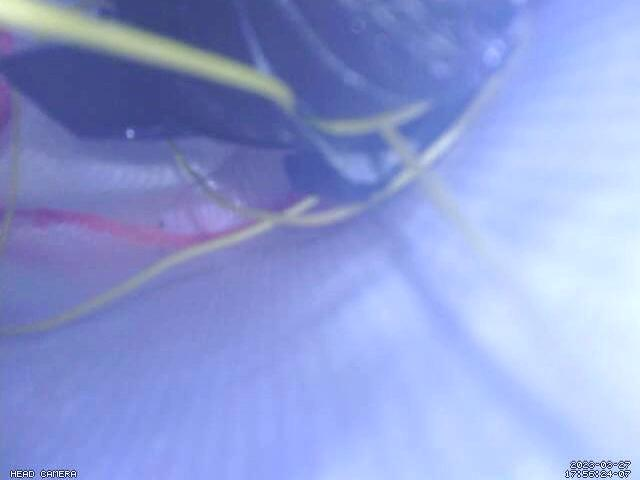head: (0, 30, 296, 245)
